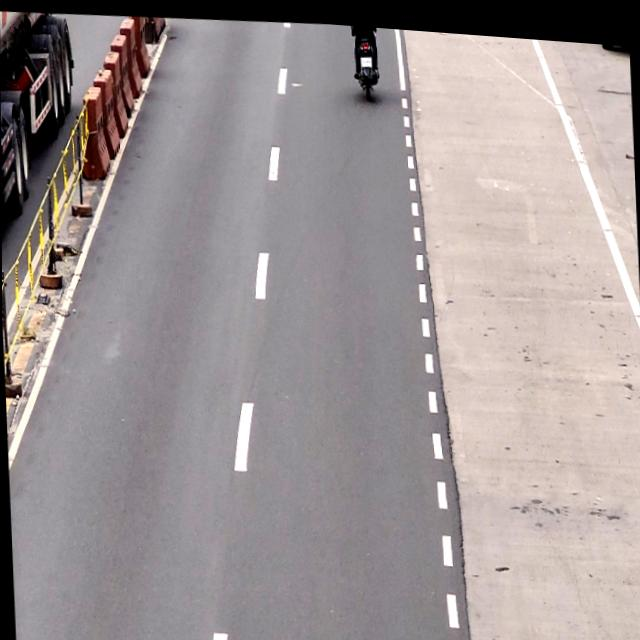License-Plate: (361, 47, 372, 63)
Motorcycle: (351, 20, 378, 92)
